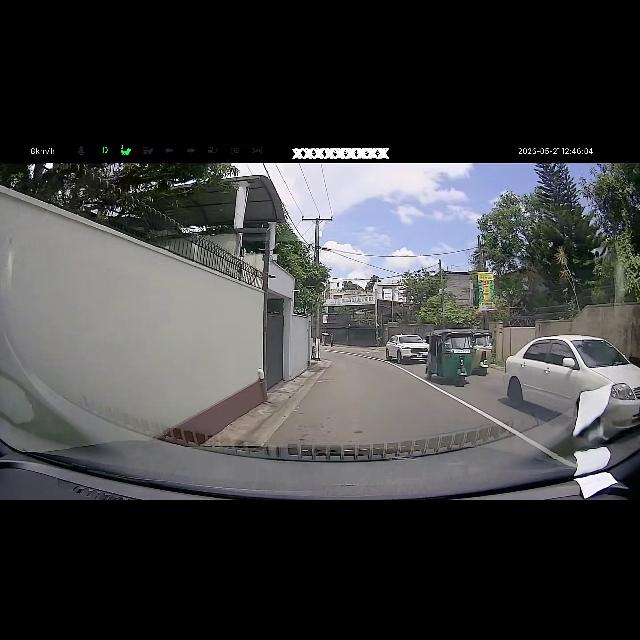car: (518, 339, 592, 397), (392, 336, 418, 359)
solid_line: (430, 395, 514, 469)
three_wheeler: (428, 329, 470, 378), (472, 329, 491, 371)
